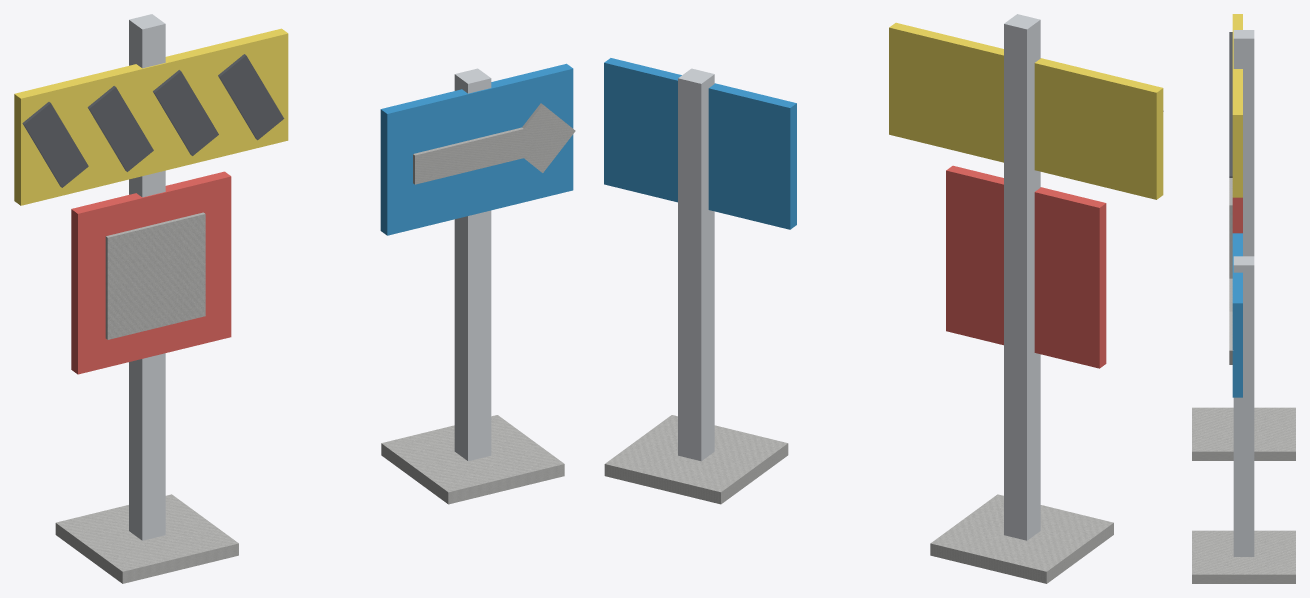
File: go-kart-track-and-pit-lane-track-sign-set-627a51af__34344.glb
3 renders of one model, left to right at view 1: azimuth 30°, elevation 25°; view 2: azimuth 150°, elevation 25°; view 3: azimuth 270°, elevation 25°, orthographic. The views are drawn at different scales.
Parts seen in each view (by area): view 1: track-sign-set-concrete, track-sign-set-canary, track-sign-set-azure, track-sign-set-steel, track-sign-set-red, track-sign-set-charcoal; view 2: track-sign-set-steel, track-sign-set-canary, track-sign-set-red, track-sign-set-azure, track-sign-set-concrete; view 3: track-sign-set-concrete, track-sign-set-steel, track-sign-set-azure, track-sign-set-canary, track-sign-set-charcoal, track-sign-set-red.
Boxes of the visible parts, x1,y1,x2,y2 form: track-sign-set-concrete: [55, 103, 575, 583]; track-sign-set-canary: [14, 28, 288, 205]; track-sign-set-azure: [380, 63, 573, 235]; track-sign-set-steel: [129, 14, 491, 540]; track-sign-set-red: [71, 171, 231, 374]; track-sign-set-charcoal: [22, 54, 284, 187]; track-sign-set-steel: [678, 14, 1040, 540]; track-sign-set-canary: [889, 22, 1163, 199]; track-sign-set-red: [946, 165, 1106, 368]; track-sign-set-azure: [604, 58, 796, 229]; track-sign-set-concrete: [604, 415, 1113, 583]; track-sign-set-concrete: [1192, 178, 1295, 583]; track-sign-set-steel: [1233, 30, 1254, 556]; track-sign-set-azure: [1232, 233, 1242, 397]; track-sign-set-canary: [1232, 14, 1242, 197]; track-sign-set-charcoal: [1229, 32, 1232, 177]; track-sign-set-red: [1232, 197, 1242, 233].
Size of the model in its own units: 2.38 by 2.15 by 0.4998.
Materials: 6 (1 with a texture image).
